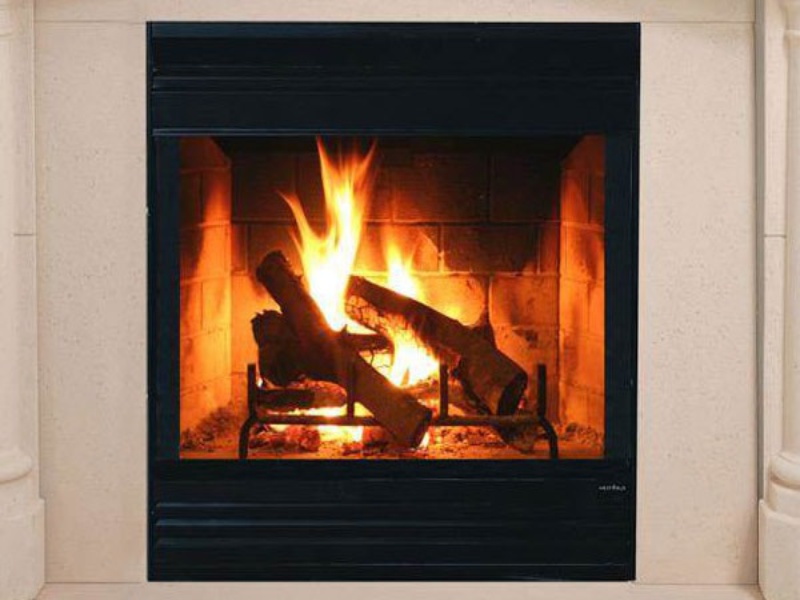fire: (281, 144, 390, 327)
